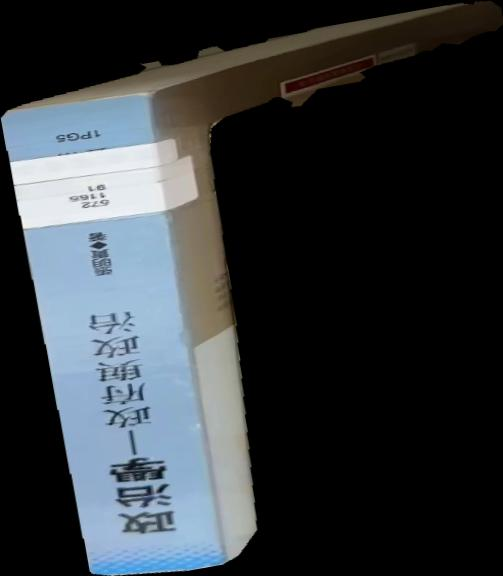reverse: (1, 1, 503, 576)
